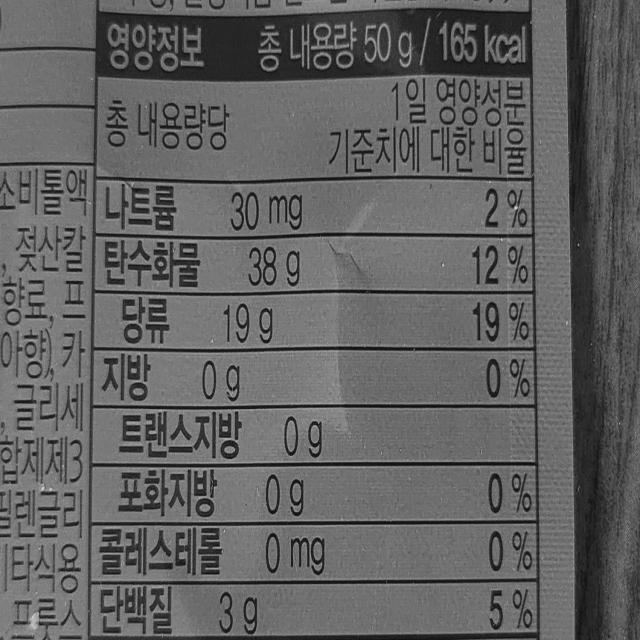Nutrition Label: (95, 10, 541, 640)
